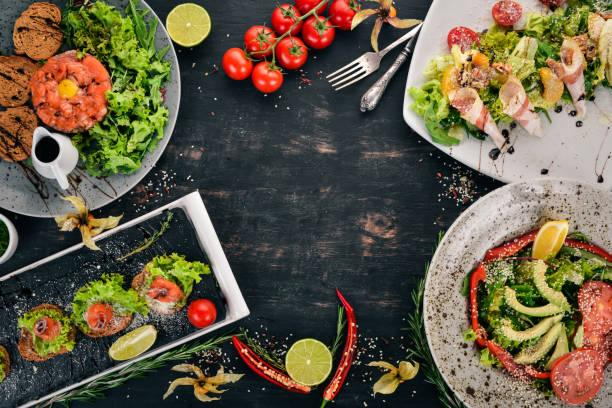Braised Crucian Carp: (1, 189, 248, 406), (421, 179, 610, 405), (404, 2, 607, 192), (2, 1, 182, 215)
